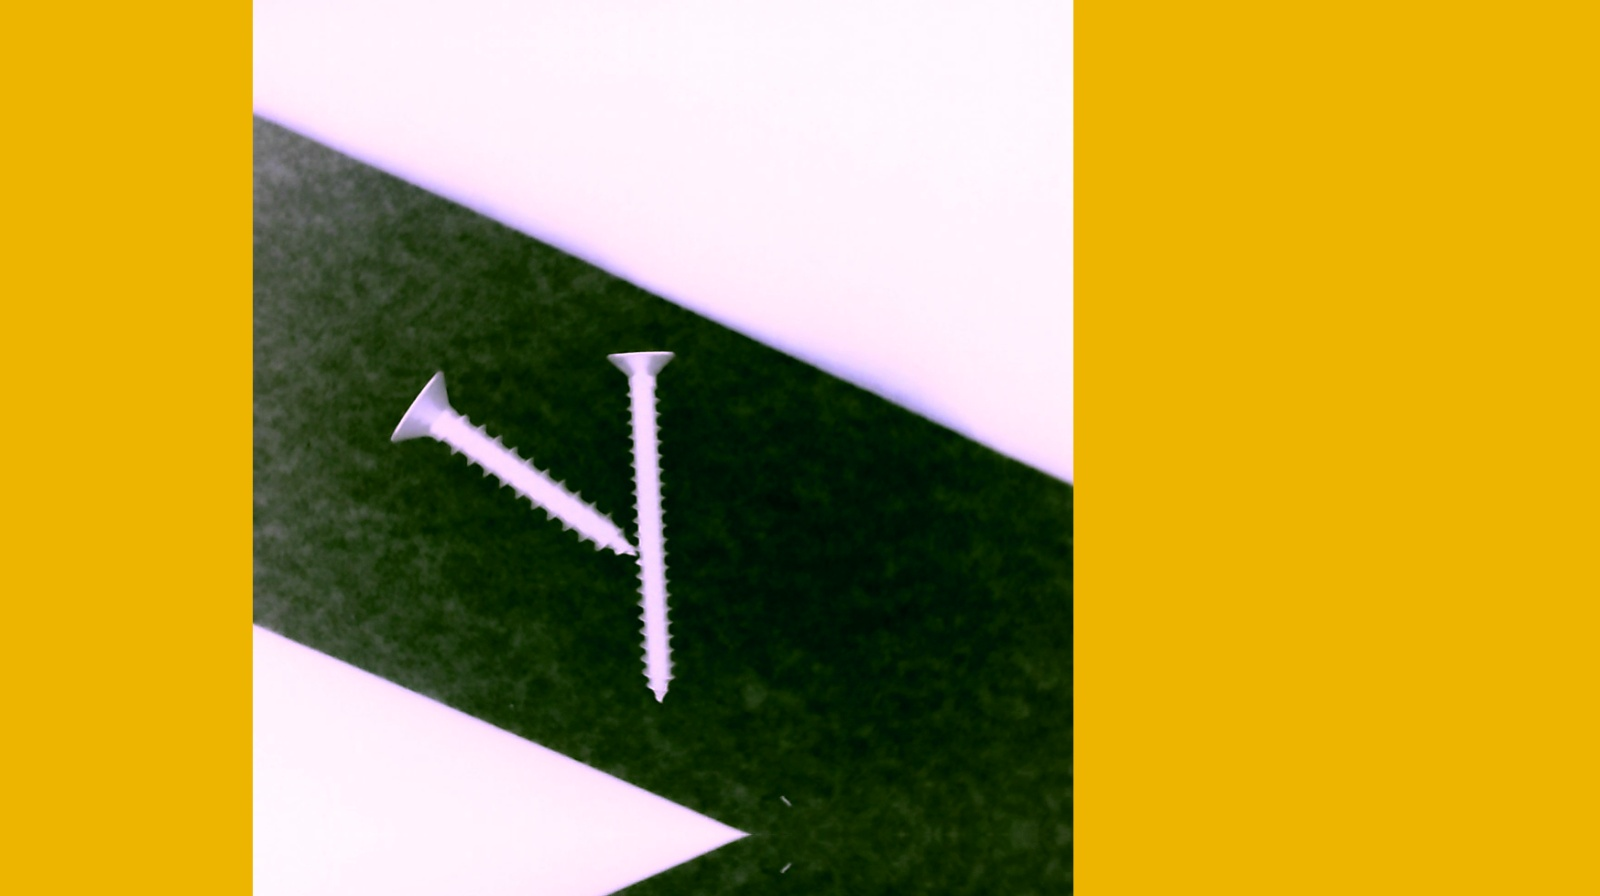S001: (389, 365, 642, 558)
S002: (603, 334, 684, 701)
